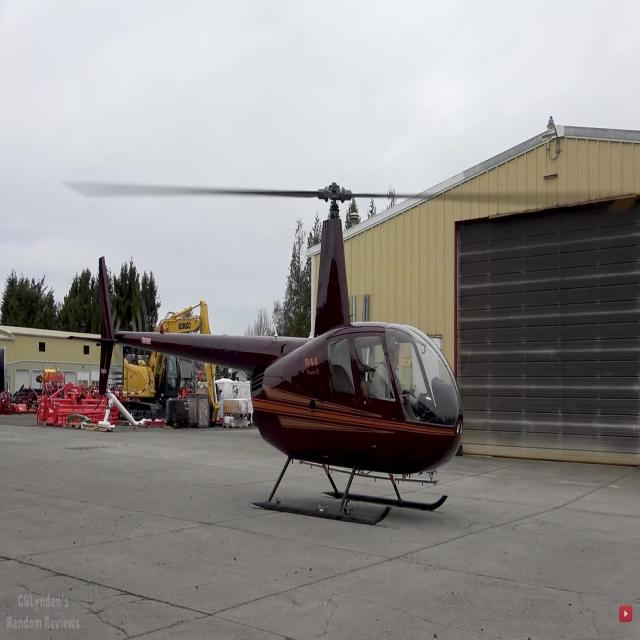CIV_HELO: (65, 179, 465, 530)
